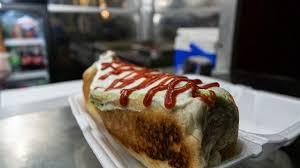Completos: (81, 52, 242, 168)
